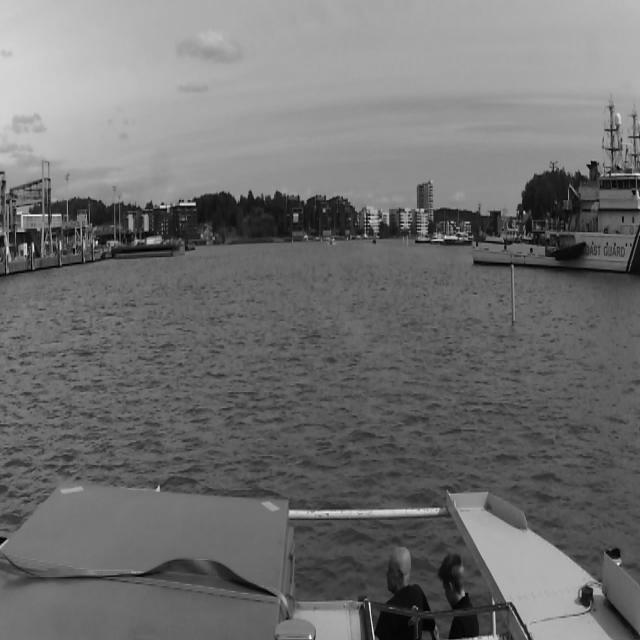buoy: (511, 264, 517, 320)
ship: (475, 94, 638, 276), (443, 227, 473, 244), (373, 238, 376, 244)
